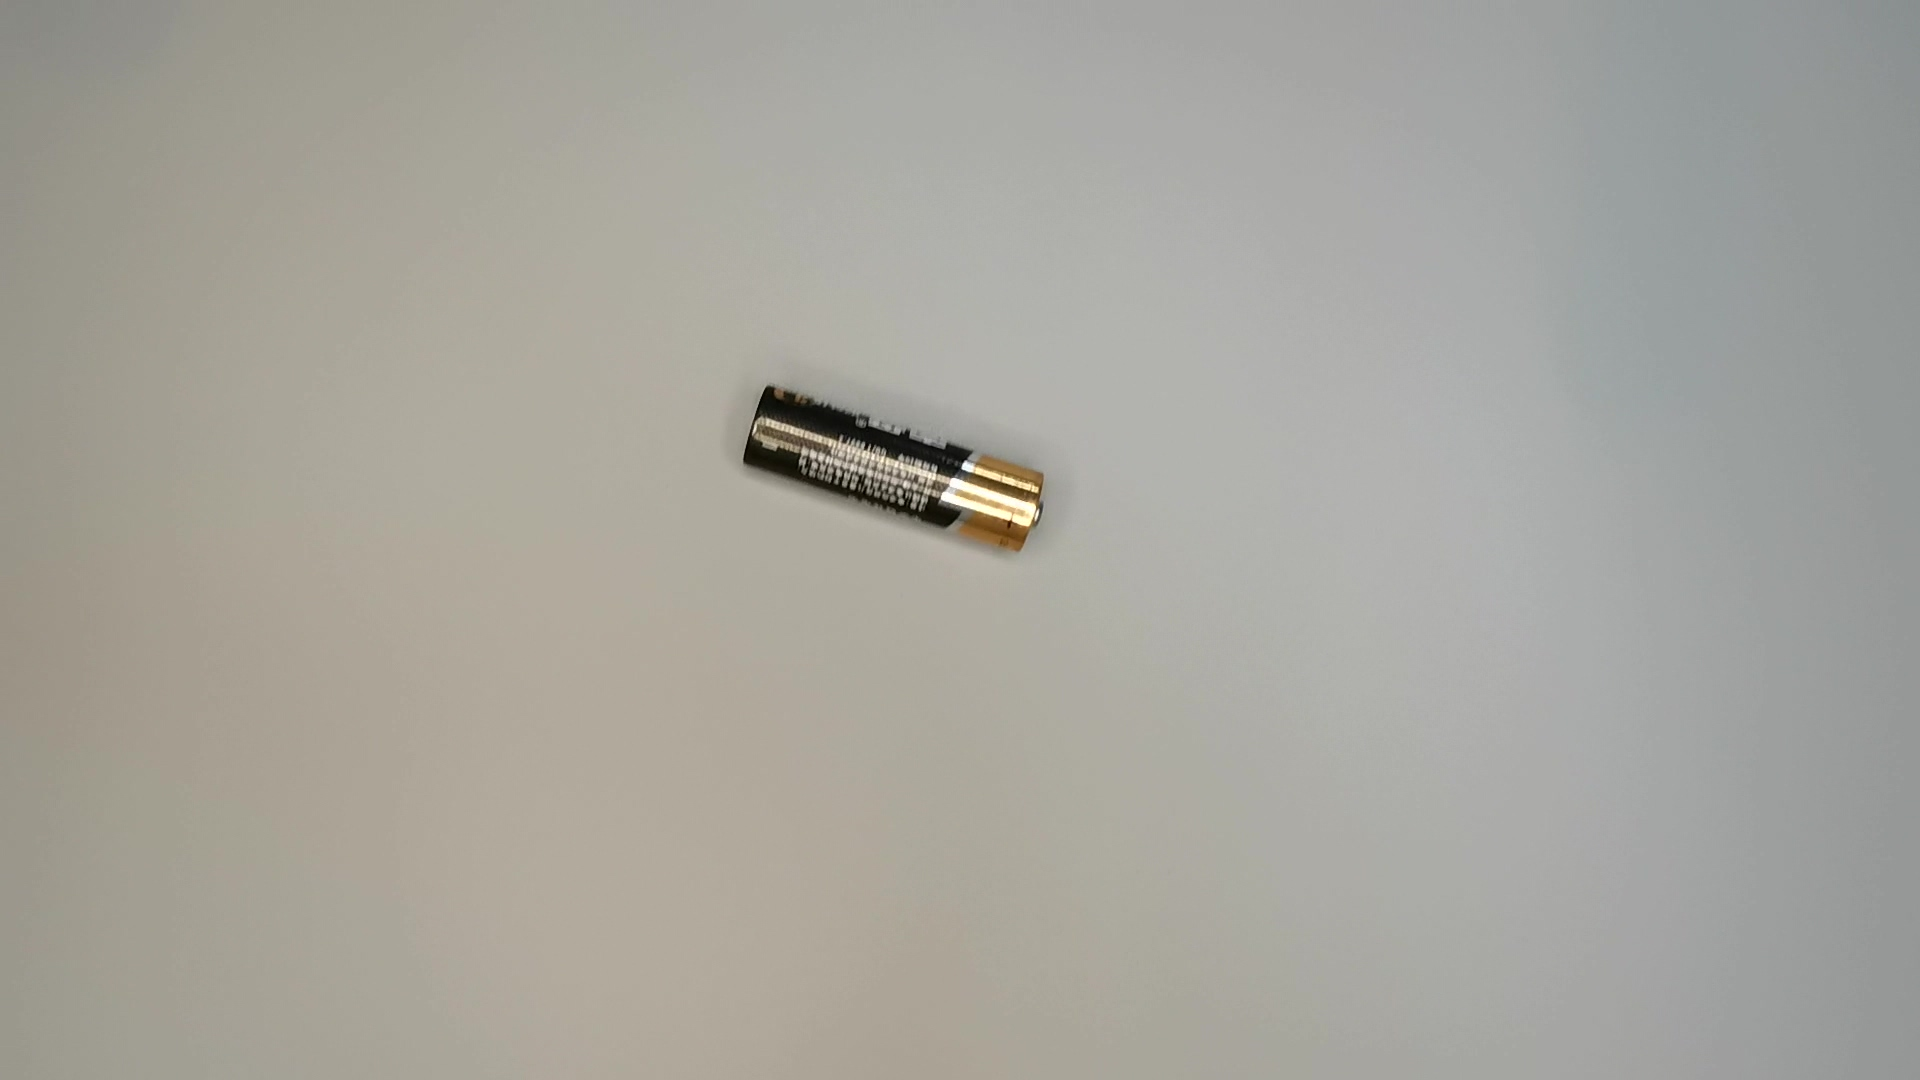battery: (733, 380, 1059, 560)
